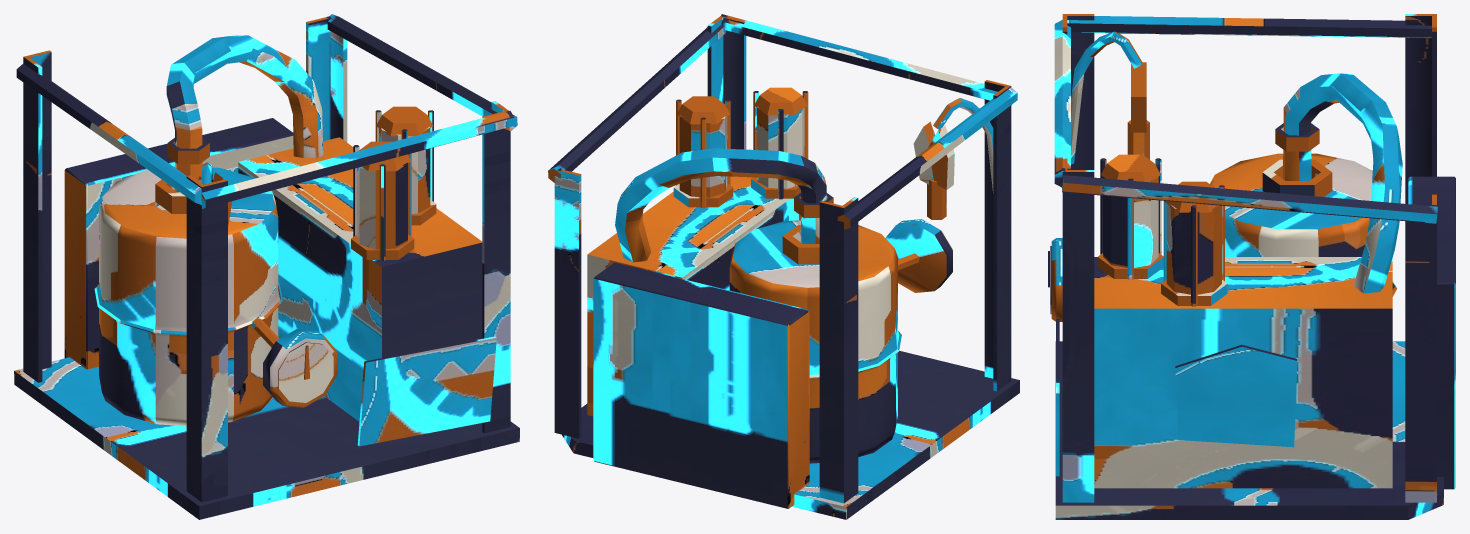
Rendered from R4X_Battery_LOD1.fbx.
The picture shows the model from 3 angles, left to right: view 1: azimuth 30°, elevation 25°; view 2: azimuth 150°, elevation 25°; view 3: azimuth 270°, elevation 25°; orthographic projection. The views are drawn at different scales.
Visible parts, largest first — view 1: R4X_Battery_LOD1; view 2: R4X_Battery_LOD1; view 3: R4X_Battery_LOD1.
Part boxes in pixels (left/top/right/bottom): R4X_Battery_LOD1: left=14, top=14, right=519, bottom=519; R4X_Battery_LOD1: left=548, top=14, right=1019, bottom=519; R4X_Battery_LOD1: left=1048, top=14, right=1455, bottom=519.
Bounding box in the file's own units: 0.4928 × 0.482 × 0.5145.
